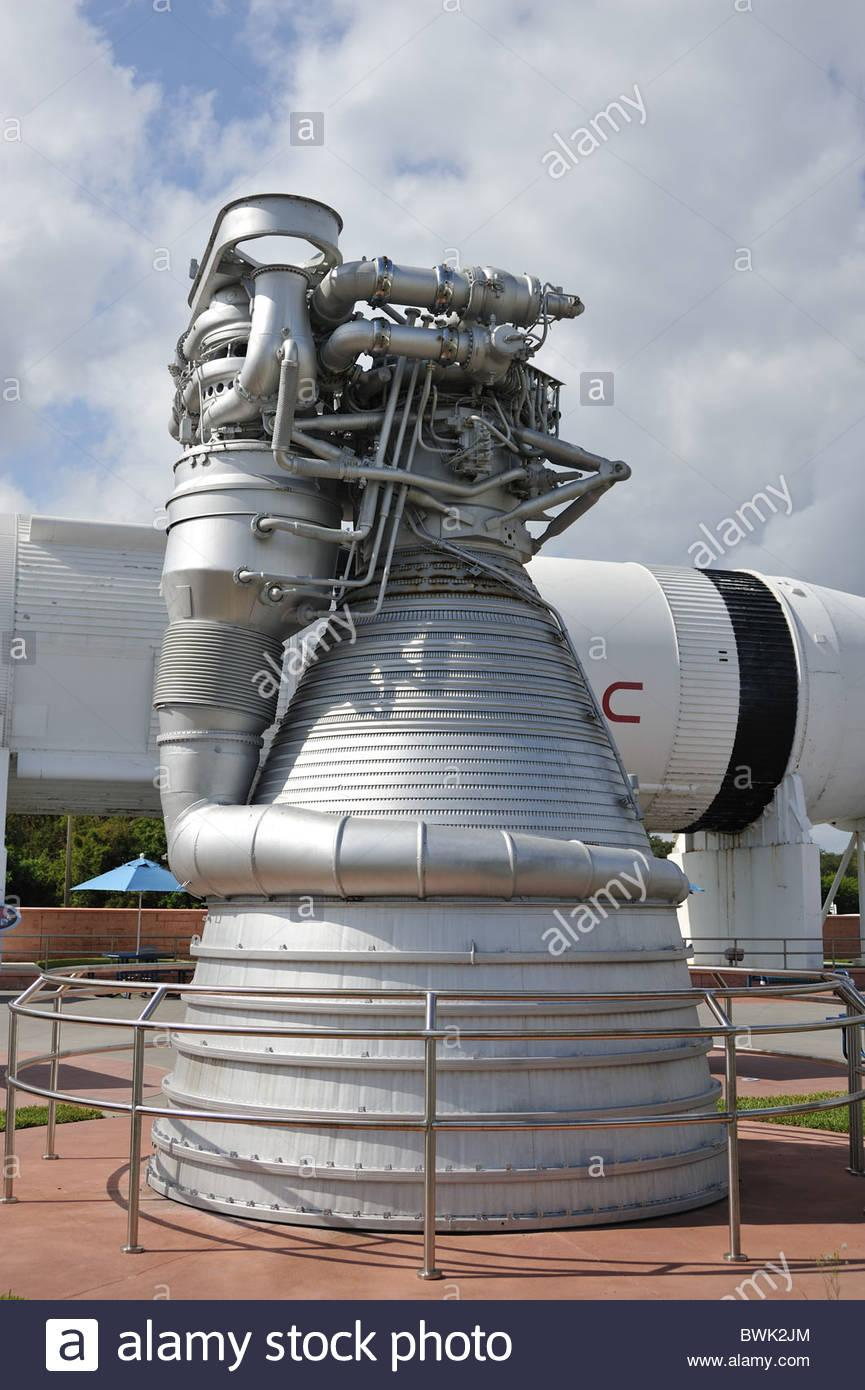thruster: (142, 535, 746, 1237)
